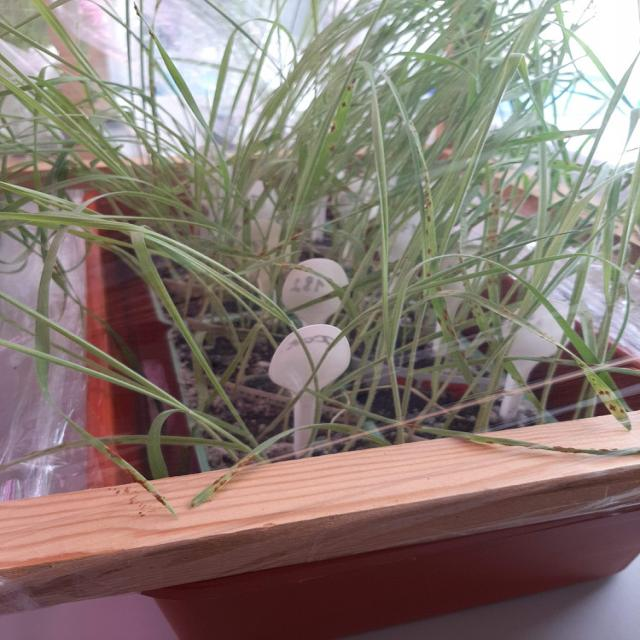wheat-stemrust: (90, 440, 177, 517), (187, 440, 278, 508), (567, 351, 632, 430)
